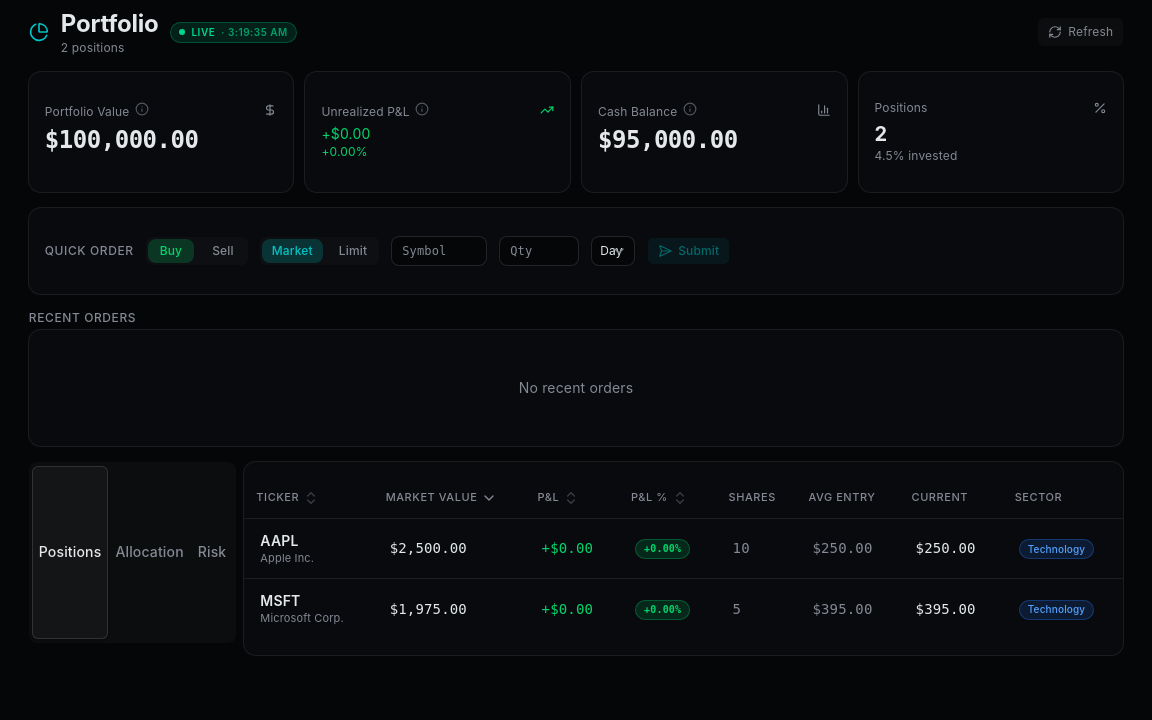
Test: PortfolioPage › surfaces meaningful error message on submit failure
Expected: the text "Quick Order" is shown, x1=45 y1=243 x2=134 y2=259
Step 1. Type "TSLA" into the field with placeholder "Symbol" → (439, 251), box x1=391 y1=236 x2=487 y2=266
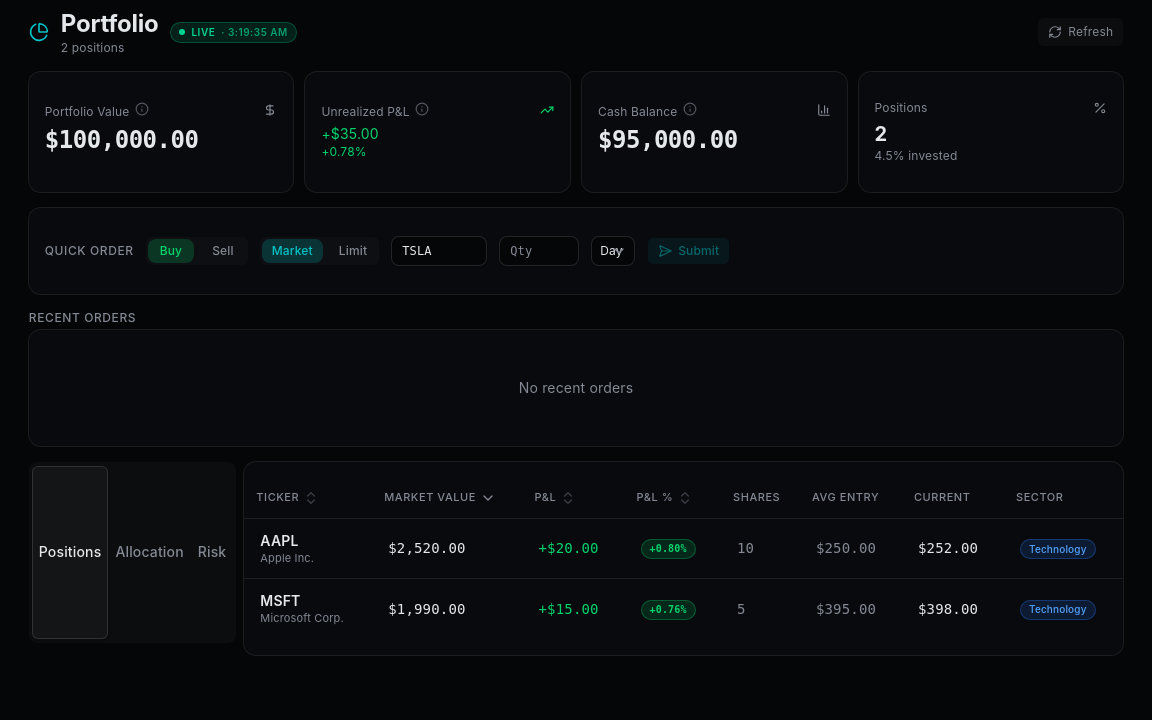
Step 2. Type "100" into the number field with placeholder "Qty" → (539, 251), box x1=499 y1=236 x2=579 y2=266
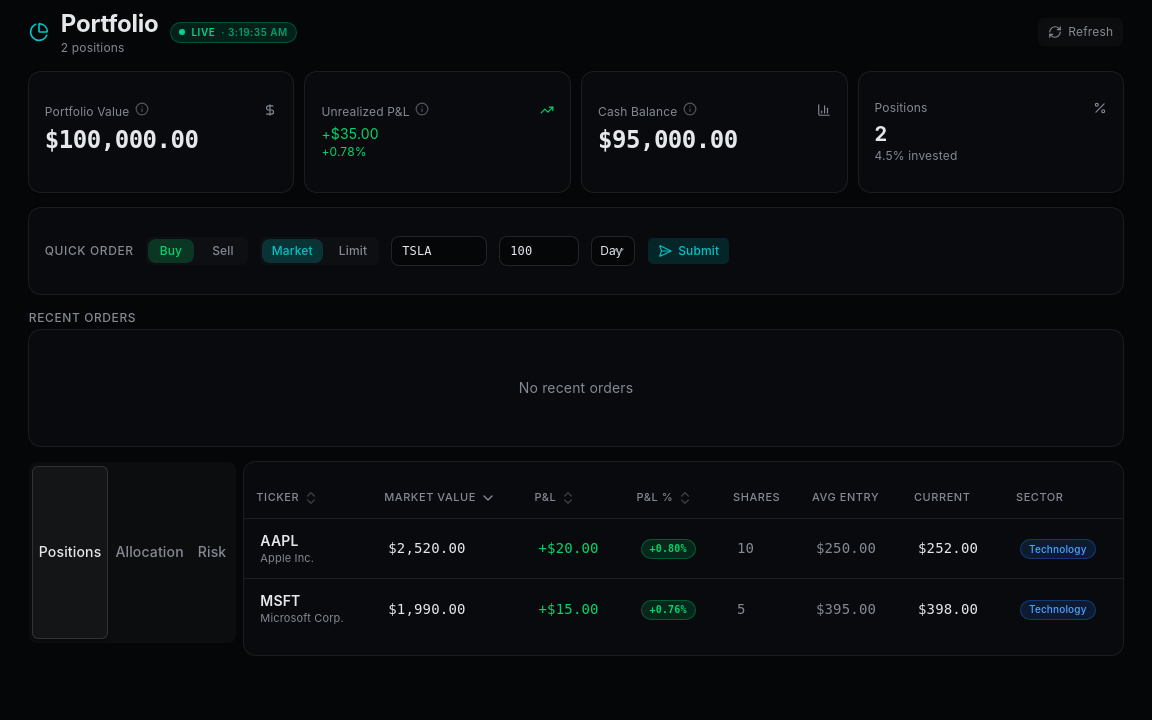
Step 3. Click the button "Submit" → click(689, 251), box x1=647 y1=237 x2=730 y2=265
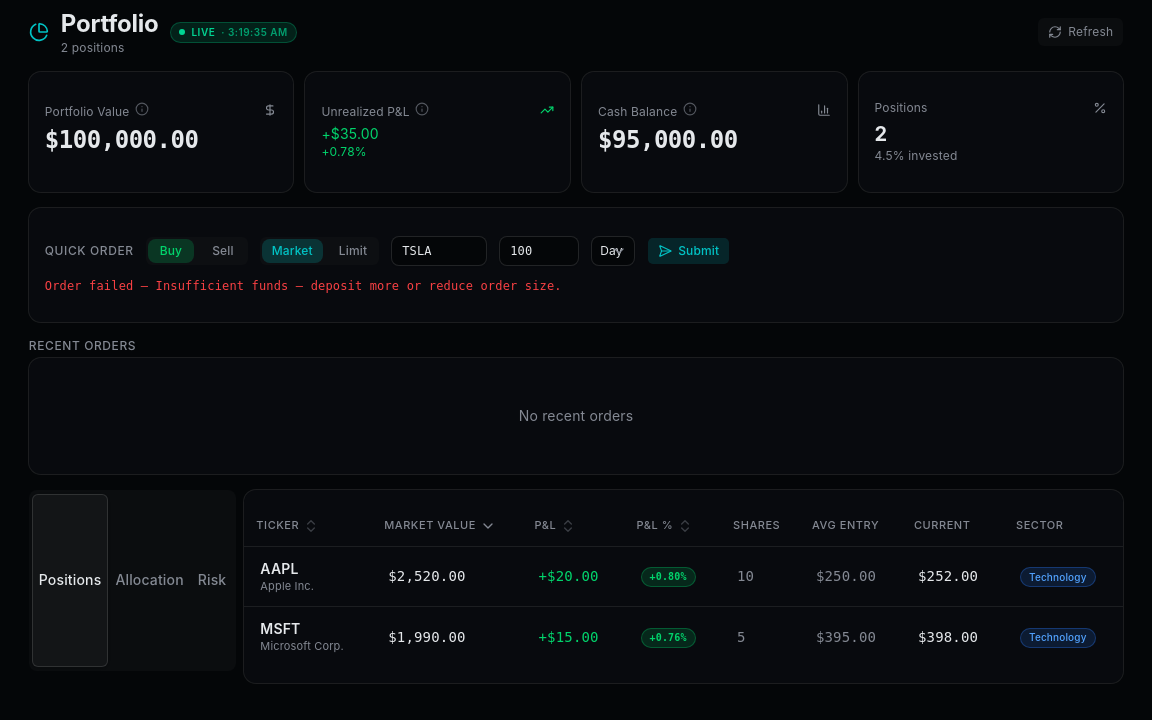
Now the text "Order failed" is shown, box x1=45 y1=279 x2=562 y2=293
